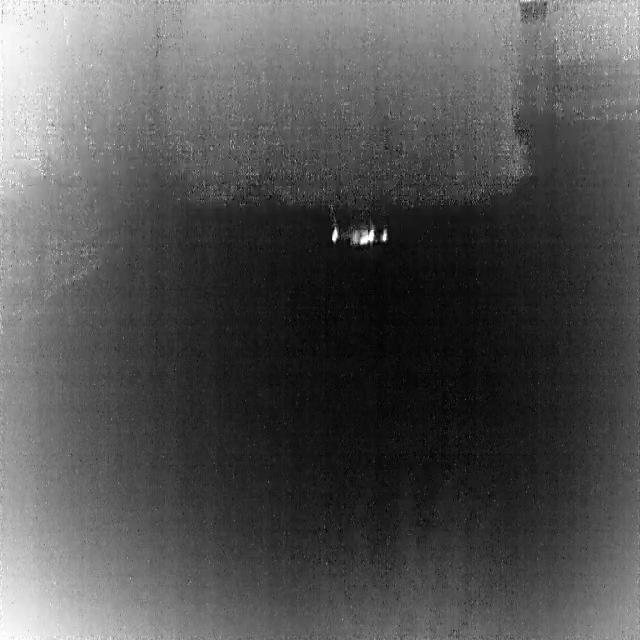drone: (331, 221, 392, 250)
